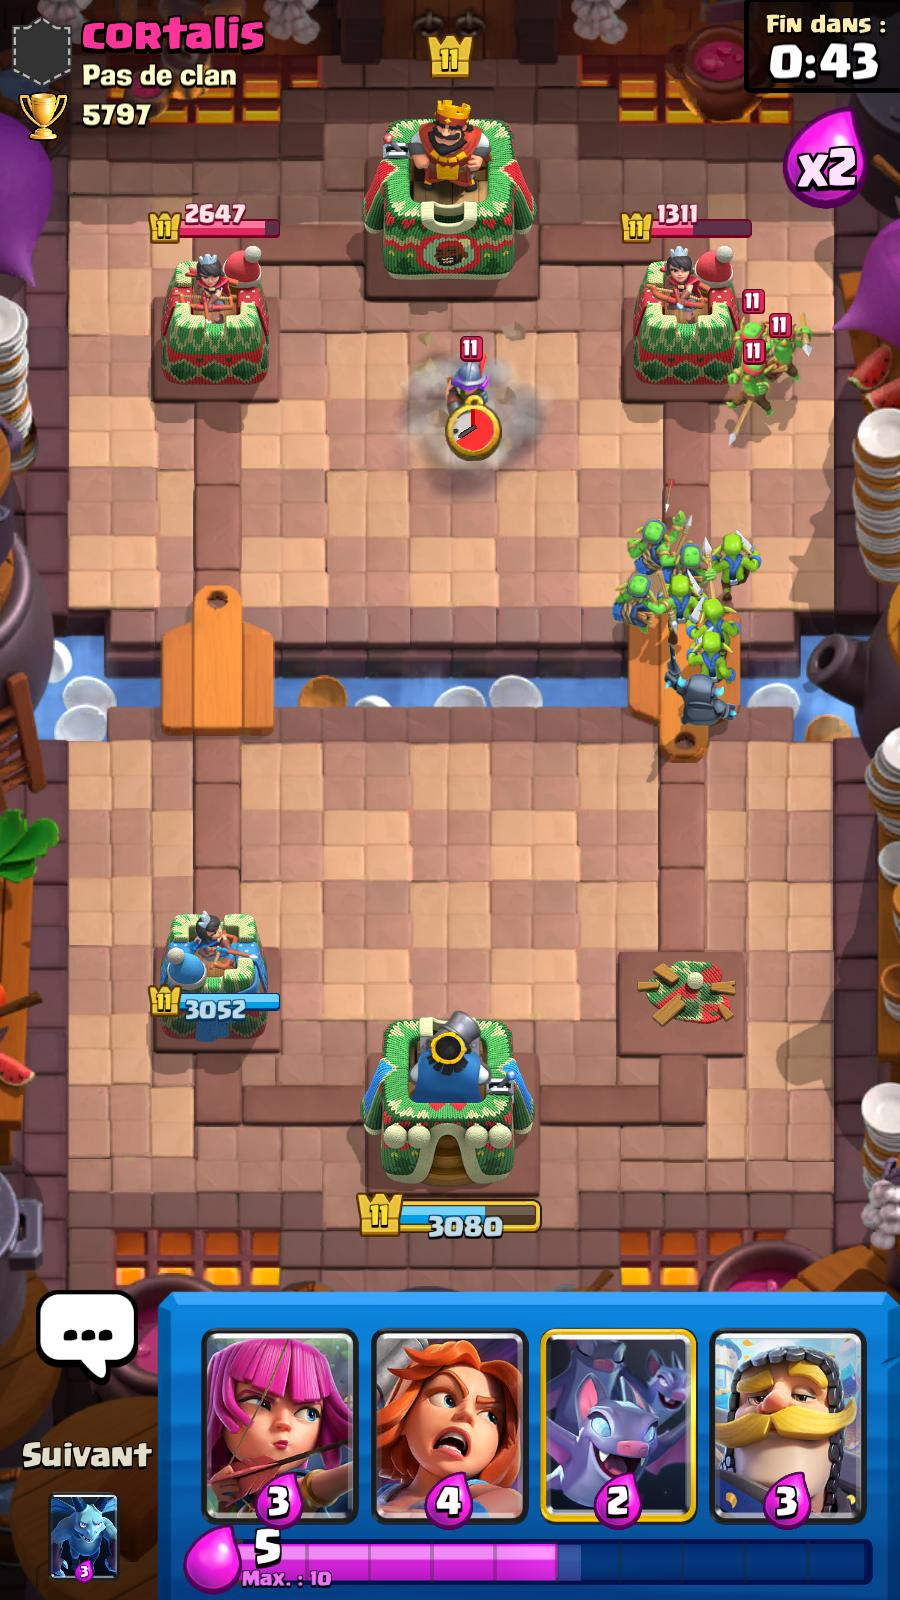gobelin: (712, 524, 773, 597), (673, 589, 743, 642), (657, 569, 714, 627), (679, 640, 745, 687)
gobelin_lances: (720, 349, 795, 469), (618, 501, 689, 579), (726, 288, 778, 380), (613, 567, 670, 647), (774, 307, 829, 379), (657, 535, 721, 595)
mini_PEKKA: (666, 655, 747, 745)
mousquetaire: (427, 327, 511, 464)
